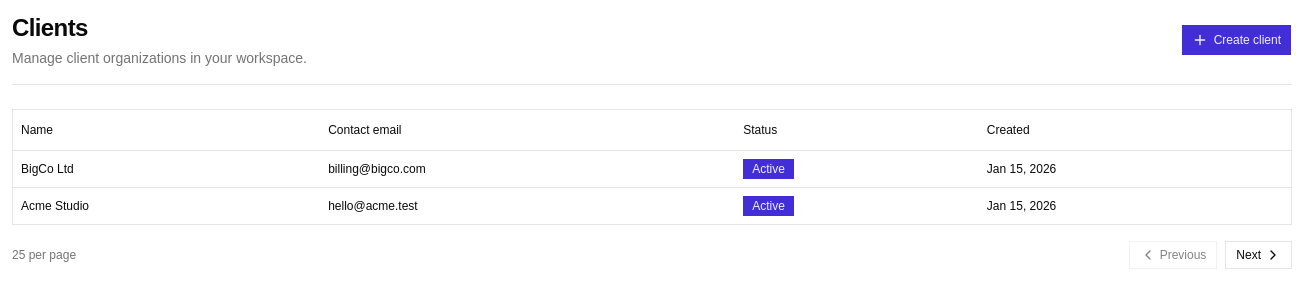
Scenario: ClientsPage › paginates clients with cursor controls
The image size is (1304, 286).
Expected: the text "BigCo Ltd" is shown, x1=13 y1=150 x2=320 y2=187
Expected: the text "Acme Studio" is shown, x1=13 y1=187 x2=320 y2=224
Click the button "Next".
click(1259, 254)  # box x1=1225 y1=240 x2=1292 y2=268
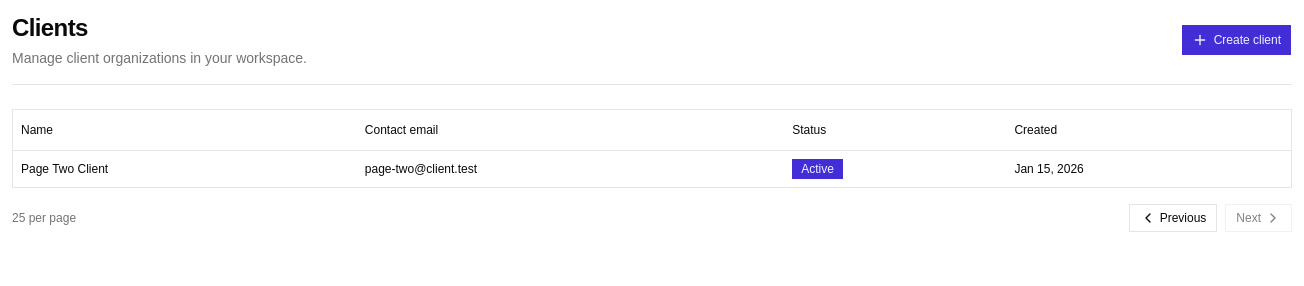
Result: the text "Page Two Client" is shown at x1=13 y1=150 x2=357 y2=186
